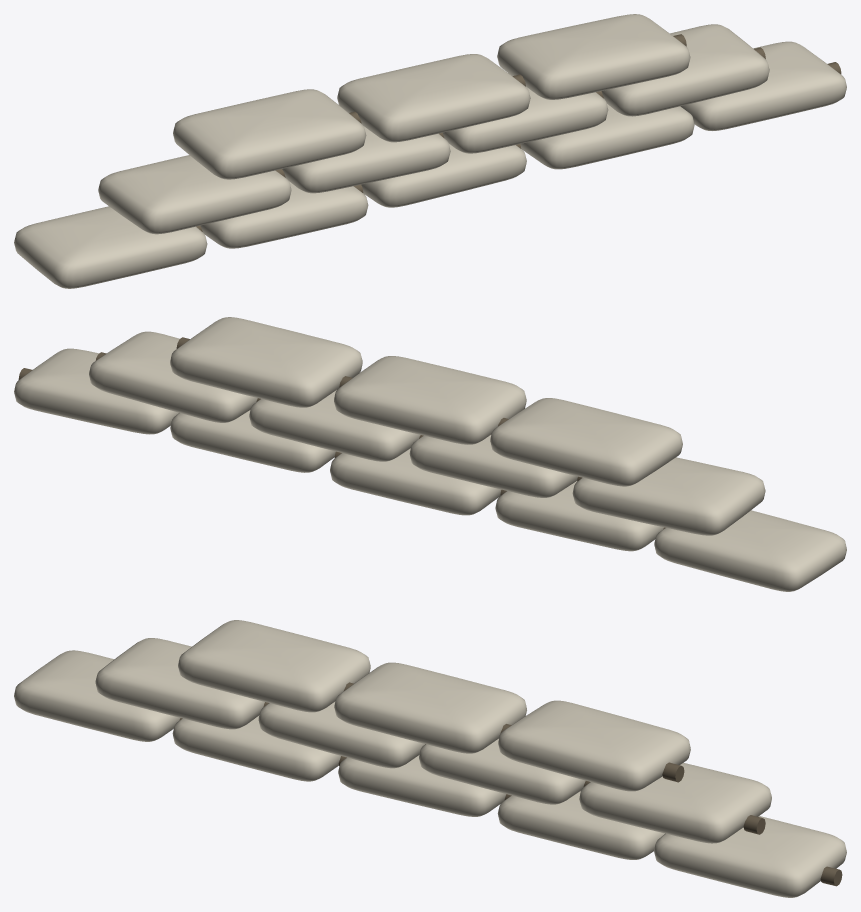
The model's file is city-sandbag-stack.glb.
3 renders of one model, top to bottom at view 1: azimuth 30°, elevation 25°; view 2: azimuth 150°, elevation 25°; view 3: azimuth 330°, elevation 25°, orthographic.
Visible parts, largest first — view 1: Assembly | Woven polypropylene sandbag, Assembly | Bag tie cord; view 2: Assembly | Woven polypropylene sandbag; view 3: Assembly | Woven polypropylene sandbag, Assembly | Bag tie cord.
Part boxes in pixels (x1,y1,x2,y2): Assembly | Woven polypropylene sandbag: (14, 14, 846, 288); Assembly | Bag tie cord: (196, 34, 841, 231); Assembly | Woven polypropylene sandbag: (14, 317, 846, 591); Assembly | Woven polypropylene sandbag: (14, 620, 846, 897); Assembly | Bag tie cord: (179, 682, 842, 886).
Bounding box in the file's own units: 2.99 × 0.3733 × 0.3912.
